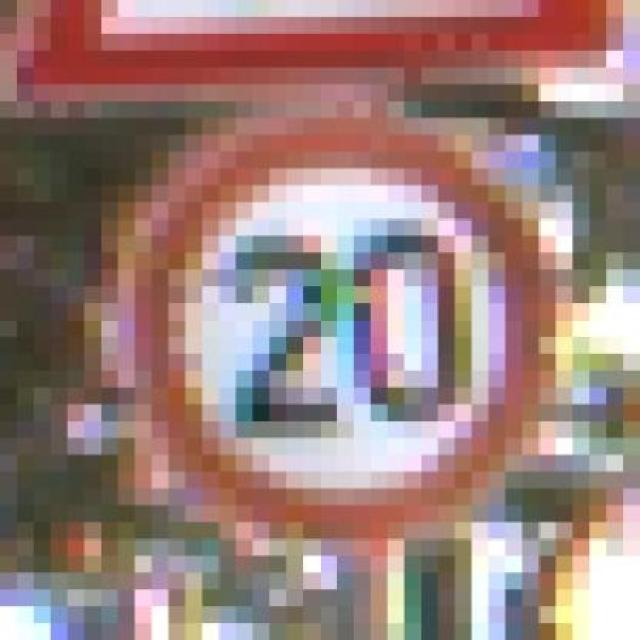forb_speed_over_20: (146, 123, 540, 517)
